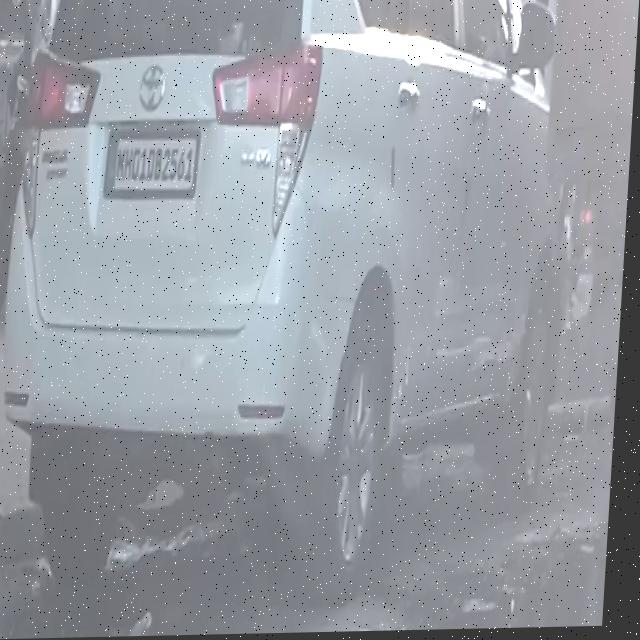plate: (104, 127, 203, 206)
